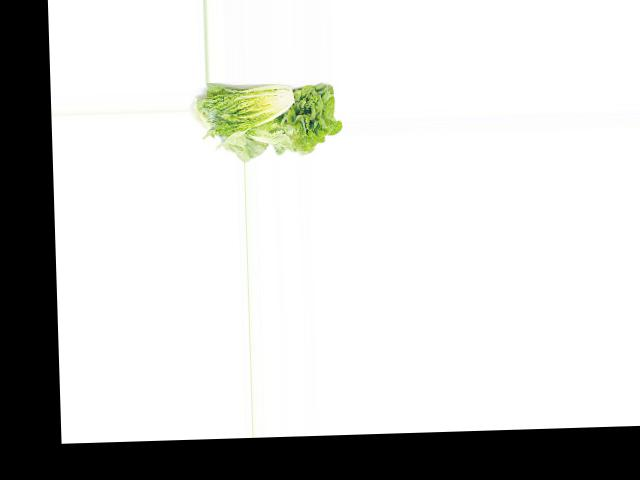lettuce: (250, 77, 340, 156)
